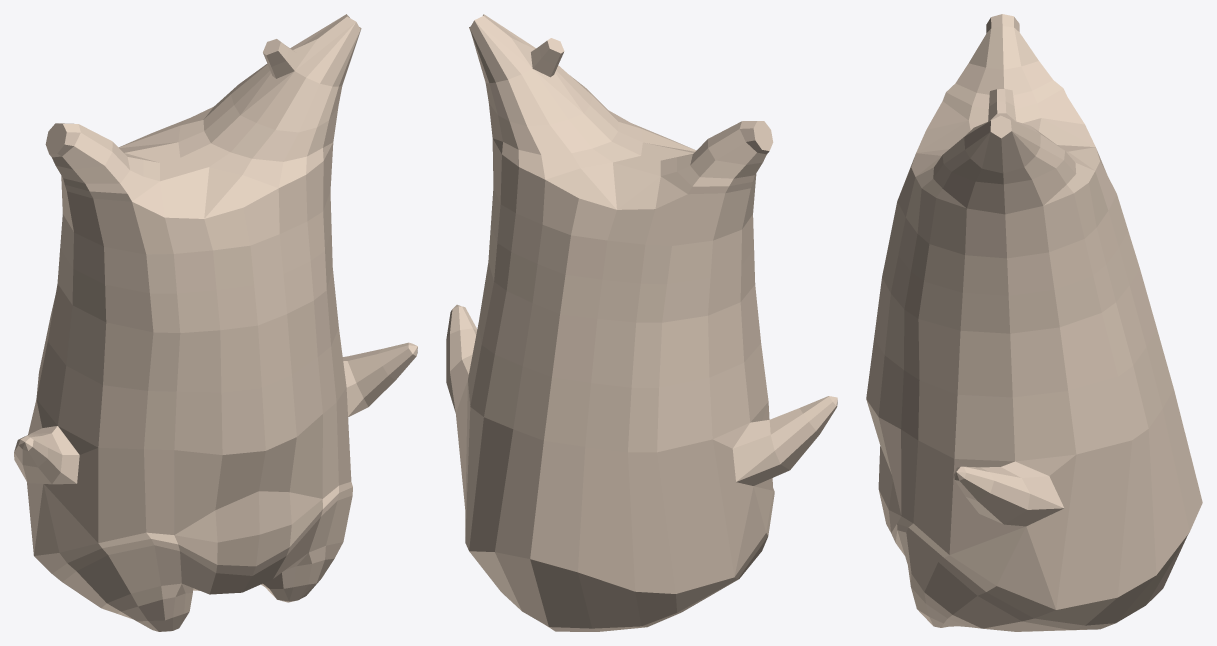
File: frame_0122.obj
3 views of the same model, side by side, from view 1: azimuth 30°, elevation 25°; view 2: azimuth 150°, elevation 25°; view 3: azimuth 270°, elevation 25° (orthographic). The views are drawn at different scales.
Visible parts, largest first — view 1: korok; view 2: korok; view 3: korok.
Boxes of the visible parts, bbox=[...] form: korok: bbox=[14, 14, 417, 631]; korok: bbox=[446, 14, 837, 631]; korok: bbox=[866, 14, 1202, 631].
Size of the model in its own units: 1.46 by 1.95 by 1.05.
